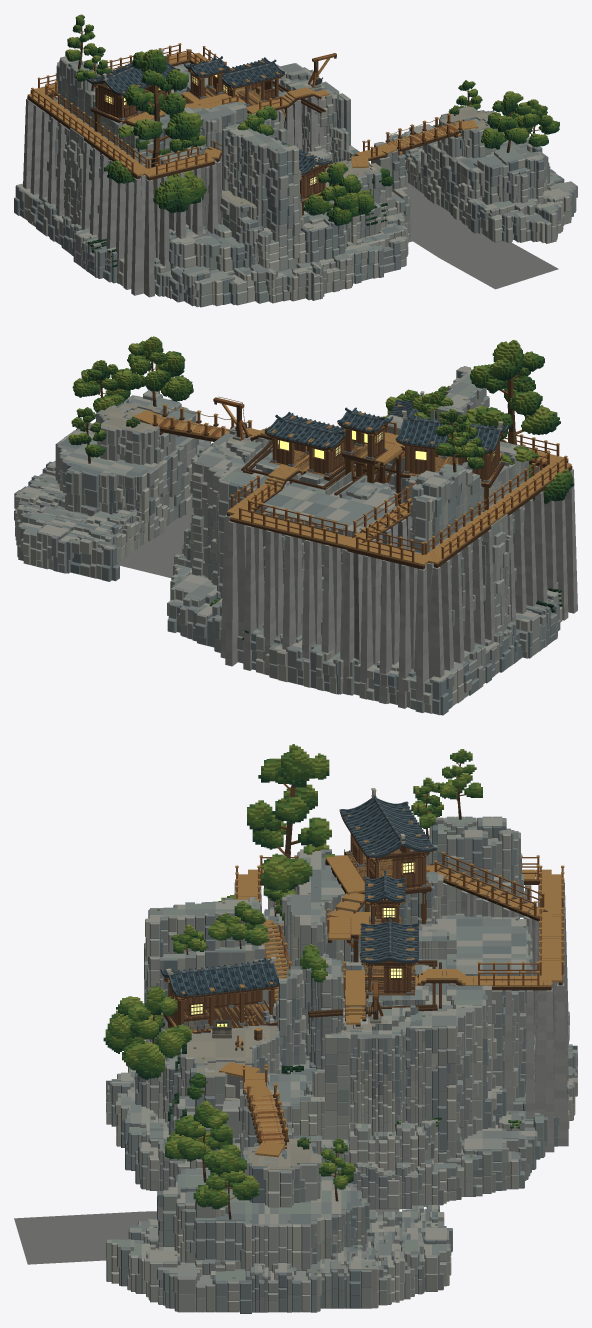
File: workshop-v14.glb
The picture shows the model from 3 angles, top to bottom: view 1: azimuth 30°, elevation 25°; view 2: azimuth 150°, elevation 25°; view 3: azimuth 270°, elevation 25°; orthographic projection. The views are drawn at different scales.
Parts seen in each view (by area): view 1: v14-beveled-rock-terraces, v14-timber-routes-and-crane, v14-stepped-workshops-with-upper-wing, workshop-foliage-forge-left-framing-pine, workshop-foliage-forge-low-front-pine, workshop-foliage-east-front-pine, v14-foliage-and-construction-props, workshop-foliage-east-outer-pine, workshop-foliage-upper-far-left-pine, workshop-foliage-upper-house-left-pine, workshop-foliage-east-back-pine, workshop-foliage-forge-back-west-ledge-pine (+1 smaller); view 2: v14-beveled-rock-terraces, v14-timber-routes-and-crane, v14-stepped-workshops-with-upper-wing, workshop-foliage-forge-left-framing-pine, workshop-foliage-east-front-pine, workshop-foliage-east-outer-pine, workshop-foliage-upper-far-left-pine, workshop-foliage-east-back-pine, v14-foliage-and-construction-props, workshop-foliage-forge-back-center-ledge-pine, v14-workshop-foundations, workshop-foliage-upper-house-left-pine; view 3: v14-beveled-rock-terraces, v14-stepped-workshops-with-upper-wing, v14-timber-routes-and-crane, workshop-foliage-forge-left-framing-pine, workshop-foliage-forge-low-front-pine, workshop-foliage-east-front-pine, workshop-foliage-east-outer-pine, workshop-foliage-forge-back-center-ledge-pine, v14-foliage-and-construction-props, workshop-foliage-upper-far-left-pine, workshop-foliage-upper-house-left-pine, workshop-foliage-east-back-pine.
Part boxes in pixels (x1,y1,x2,y2): v14-beveled-rock-terraces: [14, 56, 577, 307]; v14-timber-routes-and-crane: [27, 43, 478, 180]; v14-stepped-workshops-with-upper-wing: [86, 49, 332, 204]; workshop-foliage-forge-left-framing-pine: [104, 49, 206, 213]; workshop-foliage-forge-low-front-pine: [303, 162, 374, 225]; workshop-foliage-east-front-pine: [481, 91, 539, 149]; v14-foliage-and-construction-props: [78, 26, 540, 250]; workshop-foliage-east-outer-pine: [524, 99, 559, 147]; workshop-foliage-upper-far-left-pine: [65, 14, 96, 61]; workshop-foliage-upper-house-left-pine: [75, 45, 112, 81]; workshop-foliage-east-back-pine: [451, 80, 482, 109]; workshop-foliage-forge-back-west-ledge-pine: [169, 133, 205, 153]; v14-beveled-rock-terraces: [14, 366, 577, 715]; v14-timber-routes-and-crane: [132, 396, 572, 569]; v14-stepped-workshops-with-upper-wing: [264, 391, 509, 487]; workshop-foliage-forge-left-framing-pine: [464, 340, 574, 503]; workshop-foliage-east-front-pine: [111, 336, 193, 401]; workshop-foliage-east-outer-pine: [72, 360, 130, 412]; workshop-foliage-upper-far-left-pine: [435, 408, 478, 457]; workshop-foliage-east-back-pine: [68, 407, 106, 457]; v14-foliage-and-construction-props: [83, 361, 555, 606]; workshop-foliage-forge-back-center-ledge-pine: [412, 391, 453, 420]; v14-workshop-foundations: [325, 457, 501, 511]; workshop-foliage-upper-house-left-pine: [450, 422, 485, 469]; v14-beveled-rock-terraces: [14, 816, 577, 1313]; v14-stepped-workshops-with-upper-wing: [160, 788, 437, 1038]; v14-timber-routes-and-crane: [219, 851, 564, 1157]; workshop-foliage-forge-left-framing-pine: [213, 744, 334, 916]; workshop-foliage-forge-low-front-pine: [103, 986, 191, 1079]; workshop-foliage-east-front-pine: [165, 1100, 240, 1176]; workshop-foliage-east-outer-pine: [193, 1152, 259, 1209]; workshop-foliage-forge-back-center-ledge-pine: [208, 901, 269, 945]; v14-foliage-and-construction-props: [148, 762, 513, 1219]; workshop-foliage-upper-far-left-pine: [438, 749, 482, 799]; workshop-foliage-upper-house-left-pine: [411, 777, 443, 828]; workshop-foliage-east-back-pine: [319, 1138, 355, 1189].
Size of the model in its own units: 43.77 by 21.59 by 35.76.
